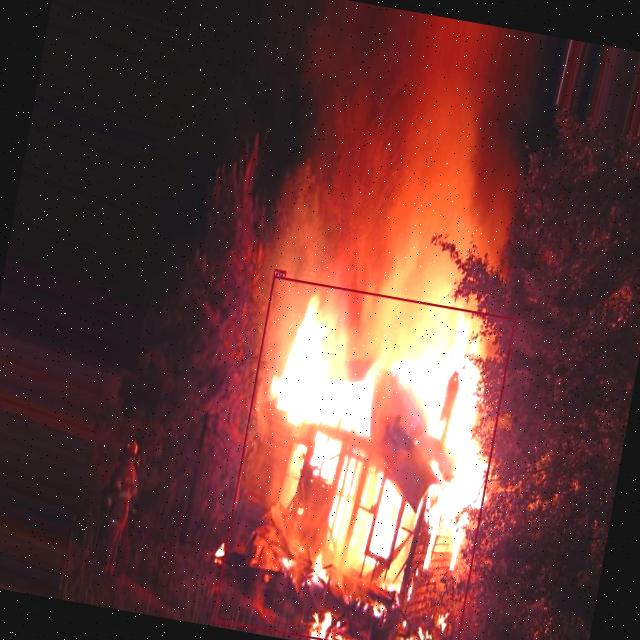fire: (212, 275, 515, 640)
